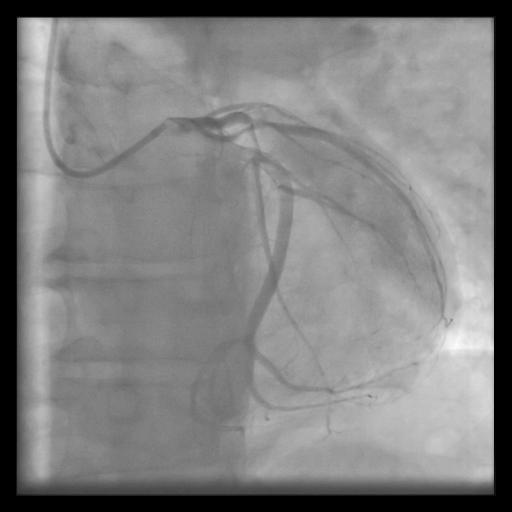Stenosis: (243, 122, 264, 160)
